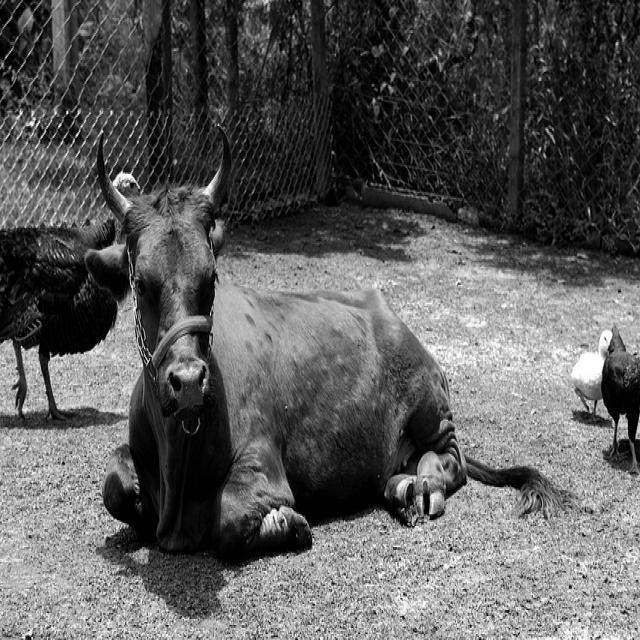cow: (81, 117, 586, 557)
